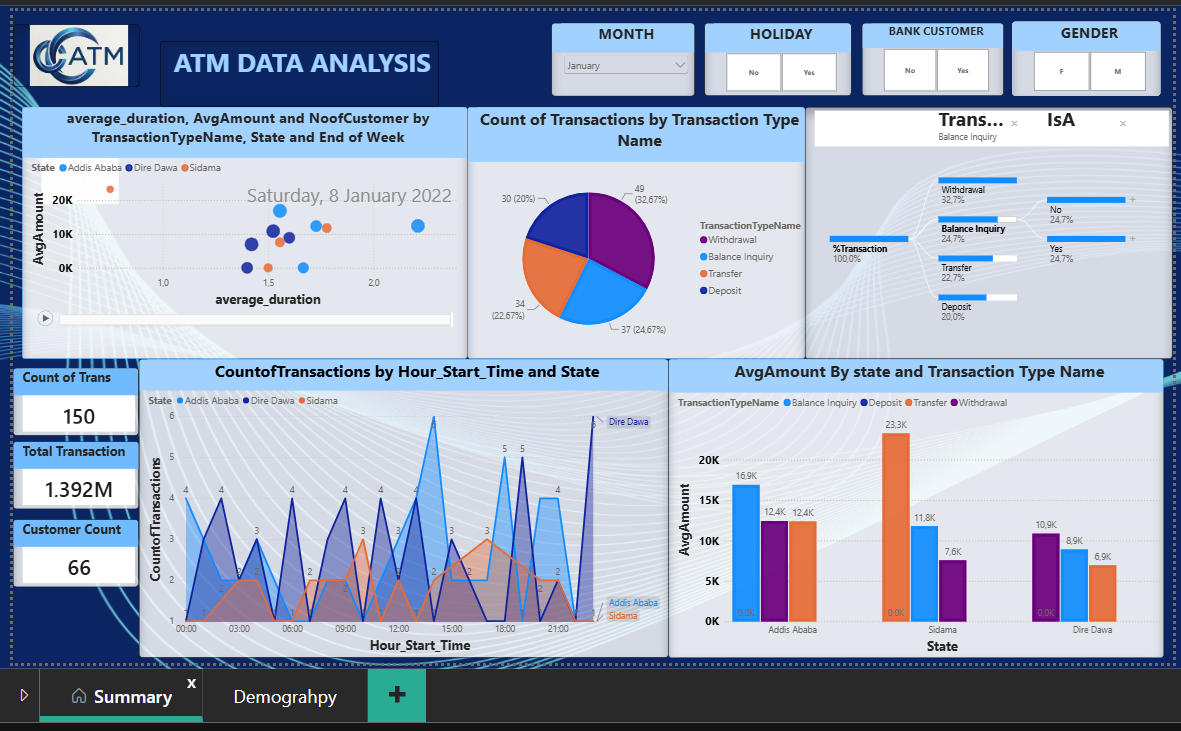

What the dashboard file says about the page in this screenshot:
{"tool":"powerbi","page":{"name":"Summary","canvas":[1920,1080],"ordinal":0},"visuals":[{"type":"clusteredColumnChart","title":"AvgAmount  By state and Transaction Type Name","fields":{"Category":["Location.State"],"Series":["Transaction_Type.TransactionTypeName"],"Y":["Measure_Table.AvgAmount"]},"box":[1085.8,576.5,820,494.5],"z":0},{"type":"areaChart","fields":{"Category":["Hour.Hour_Start_Time"],"Series":["Location.State"],"Y":["Measure_Table.CountofTransactions"]},"box":[208.7,576.5,877.1,494.5],"z":1000},{"type":"lineChart","title":"Total_Transaction and Count of Transactions by Month Name","box":[48,224,128,96],"z":2000},{"type":"pieChart","title":"Count of Transactions by Transaction Type Name","fields":{"Category":["Transaction_Type.TransactionTypeName"],"Y":["Measure_Table.CountofTransactions"]},"box":[752.9,159,559.1,417.4],"z":3000},{"type":"decompositionTreeVisual","fields":{"Analyze":["Measure_Table.%Transaction"],"ExplainBy":["Transaction_Type.TransactionTypeName","Customers.IsA","Customers.Occupation"]},"box":[1311.9,159,608.8,417.4],"z":4000},{"type":"scatterChart","fields":{"Category":["Transaction_Type.TransactionTypeName"],"Play":["Calender.End of Week"],"Series":["Location.State"],"Size":["Measure_Table.NoofCustomer"],"X":["Measure_Table.average_duration"],"Y":["Measure_Table.AvgAmount"]},"box":[14.9,159,738,417.4],"z":5000},{"type":"cardVisual","title":"Customer Count","fields":{"Data":["Measure_Table.NoofCustomer"]},"box":[0,842.3,208,112],"z":6000},{"type":"cardVisual","title":"Count of Trans","fields":{"Data":["Measure_Table.CountofTransactions"]},"box":[0,592,208,112],"z":7000},{"type":"cardVisual","title":"Total Transaction","fields":{"Data":["Measure_Table.Total_Transaction"]},"box":[0,713.1,208.7,111.8],"z":8000},{"type":"slicer","title":"GENDER","fields":{"Values":["Customers.Gender"]},"box":[1654.9,17.4,245.9,123.2],"z":10000,"group":"g1"},{"type":"textbox","box":[243.5,49.7,462.2,109.3],"z":10000},{"type":"group","id":"g1","title":"Group 1","box":[892,17.4,1008.8,124.2],"z":11000},{"type":"slicer","title":"BANK CUSTOMER","fields":{"Values":["Customers.IsA"]},"box":[1406.2,20.2,234.7,120.7],"z":11000,"group":"g1"},{"type":"image","box":[0,21.3,209.6,103.3],"z":11001},{"type":"slicer","title":"HOLIDAY","fields":{"Values":["Calender.IsHoliday"]},"box":[1144.9,20.2,243.1,120.7],"z":12000,"group":"g1"},{"type":"slicer","title":"MONTH","fields":{"Values":["Calender.Month Name"]},"box":[892,20.3,237.3,121.4],"z":13000,"group":"g1"}]}

Visuals, with their boxes in screenshot pixels (x1, y1, x2, y2):
"AvgAmount  By state and Transaction Type Name" clusteredColumnChart: BBox(665, 359, 1162, 659)
areaChart - Hour.Hour_Start_Time x Location.State: BBox(133, 359, 665, 659)
"Total_Transaction and Count of Transactions by Month Name" lineChart: BBox(35, 145, 113, 203)
"Count of Transactions by Transaction Type Name" pieChart: BBox(463, 106, 802, 359)
decompositionTreeVisual - Measure_Table.%Transaction x Transaction_Type.TransactionTypeName: BBox(802, 106, 1171, 359)
scatterChart - Transaction_Type.TransactionTypeName x Calender.End of Week: BBox(15, 106, 463, 359)
"Customer Count" cardVisual: BBox(6, 520, 132, 588)
"Count of Trans" cardVisual: BBox(6, 368, 132, 436)
"Total Transaction" cardVisual: BBox(6, 442, 133, 510)
"GENDER" slicer: BBox(1010, 20, 1159, 95)
textbox: BBox(154, 39, 434, 106)
"Group 1" group: BBox(547, 20, 1159, 95)
"BANK CUSTOMER" slicer: BBox(859, 21, 1002, 95)
image: BBox(6, 22, 133, 85)
"HOLIDAY" slicer: BBox(701, 21, 848, 95)
"MONTH" slicer: BBox(547, 22, 691, 95)
